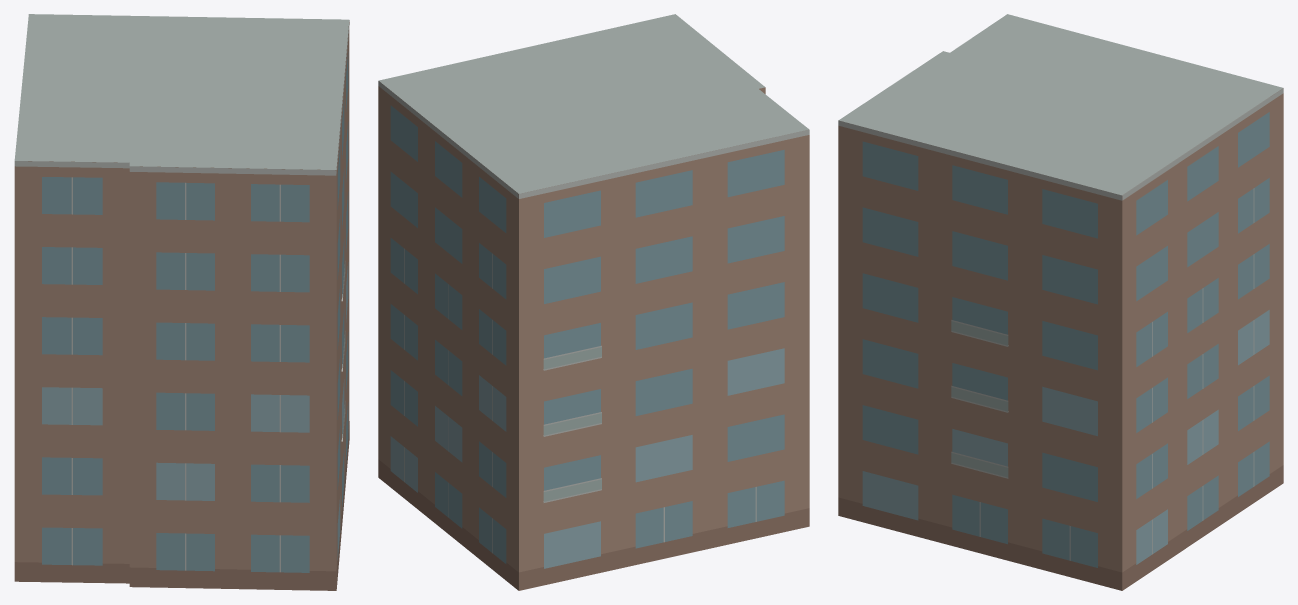
The model's file is survey-upis-32966896.glb.
The picture shows the model from 3 angles, left to right: view 1: azimuth 30°, elevation 25°; view 2: azimuth 150°, elevation 25°; view 3: azimuth 270°, elevation 25°; orthographic projection. The views are drawn at different scales.
Parts seen in each view (by area): view 1: survey-upis-32966896.tmp; view 2: survey-upis-32966896.tmp; view 3: survey-upis-32966896.tmp.
Boxes of the visible parts, x1,y1,x2,y2 form: survey-upis-32966896.tmp: [14, 14, 349, 590]; survey-upis-32966896.tmp: [378, 14, 809, 590]; survey-upis-32966896.tmp: [838, 14, 1283, 590].
Size of the model in its own units: 18.02 by 18.3 by 18.68.
